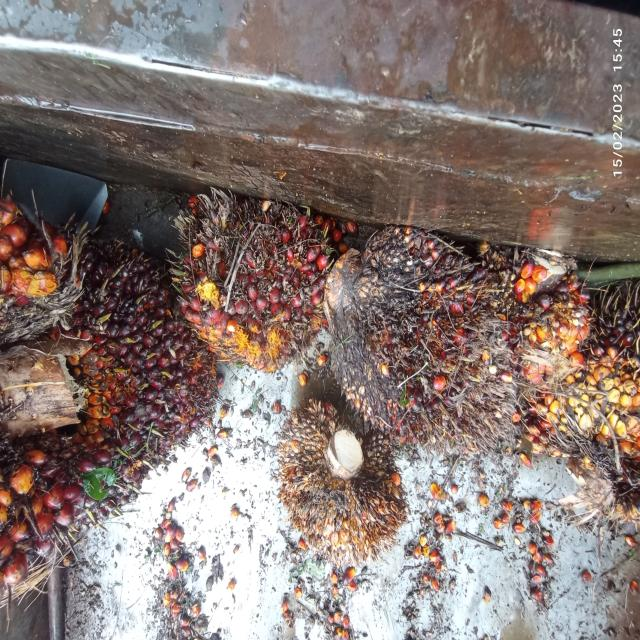fraksi 1: (313, 184, 526, 488), (162, 172, 349, 399), (74, 242, 224, 488)
